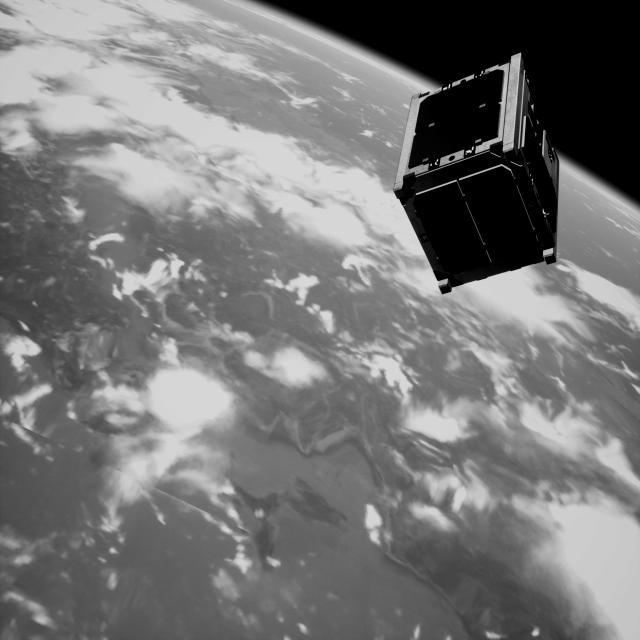satellite: (394, 52, 563, 300)
